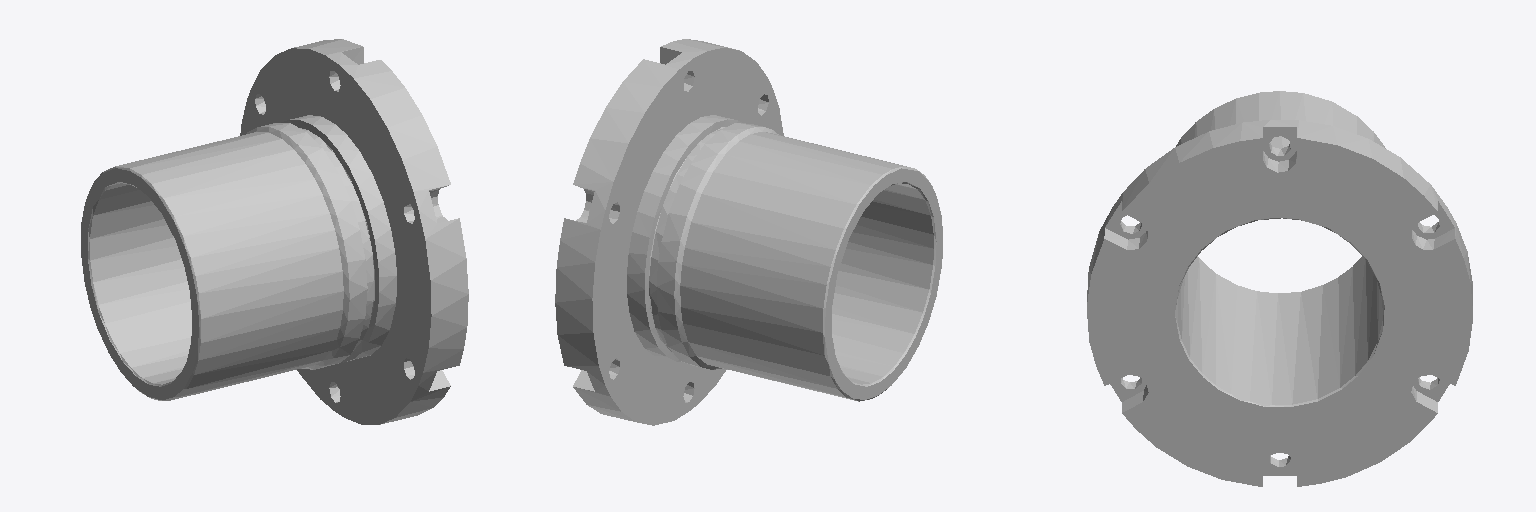
File: heel sleeve.obj
The picture shows the model from 3 angles: view 1: azimuth 30°, elevation 25°; view 2: azimuth 150°, elevation 25°; view 3: azimuth 270°, elevation 25°; orthographic projection.
Parts seen in each view (by area): view 1: imagetostl_mesh; view 2: imagetostl_mesh; view 3: imagetostl_mesh.
Part boxes in pixels (x1,y1,x2,y2): imagetostl_mesh: (81,39,468,424); imagetostl_mesh: (555,39,942,425); imagetostl_mesh: (1087,91,1472,486).
Size of the model in its own units: 156 by 225 by 225.